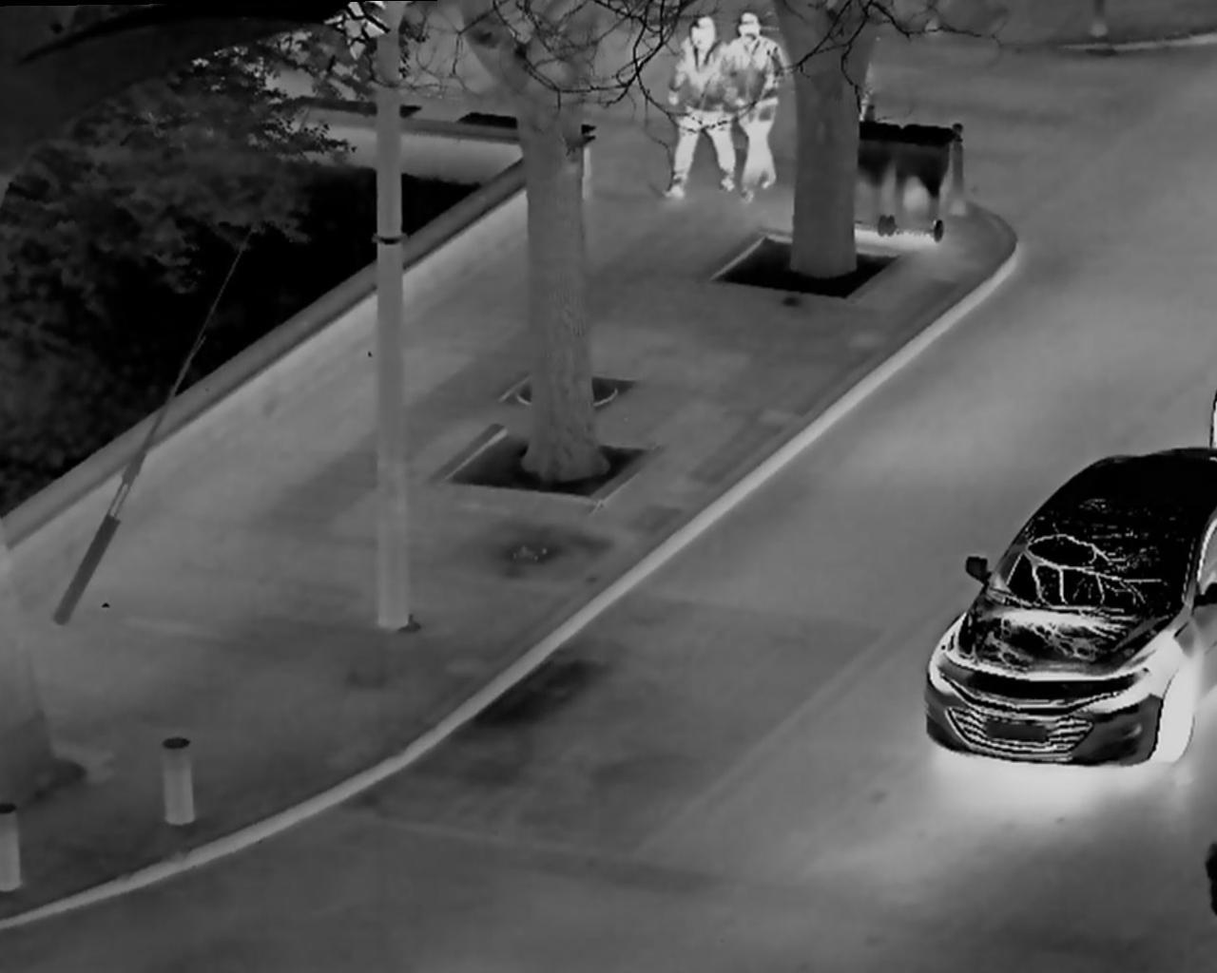person: (668, 10, 733, 213)
